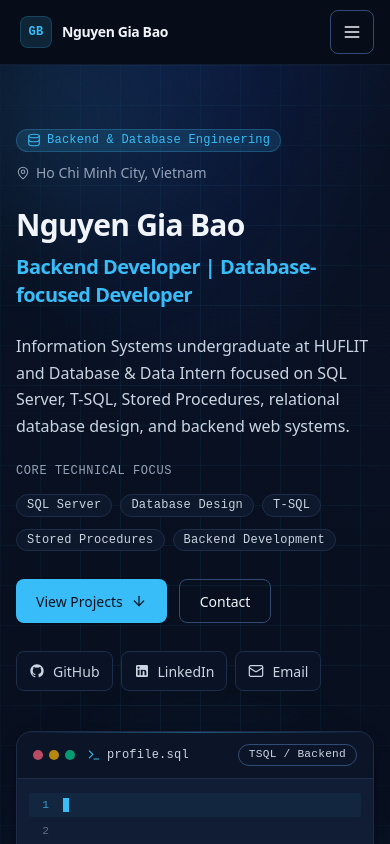
Scenario: Stage 4 – Complete Portfolio Website › opens and closes the mobile hamburger navigation menu
Click the button named "Open navigation menu": click(352, 32) left=330, top=10, right=374, bottom=54
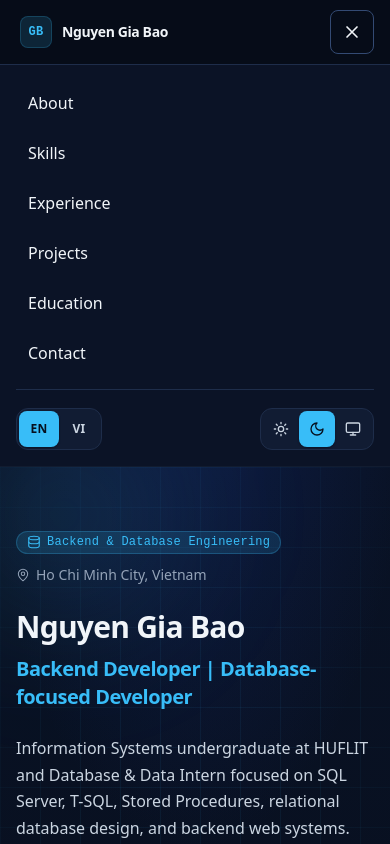
expect the button named "Close navigation menu" is expanded: met, box left=330, top=10, right=374, bottom=54
expect the navigation bar with id "mobile-nav-panel" is shown: met, box left=0, top=64, right=389, bottom=466
Press Escape
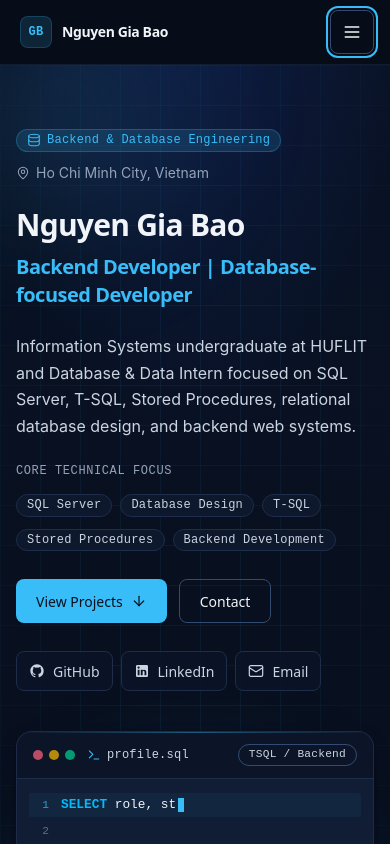
expect the navigation bar with id "mobile-nav-panel" is gone: met
